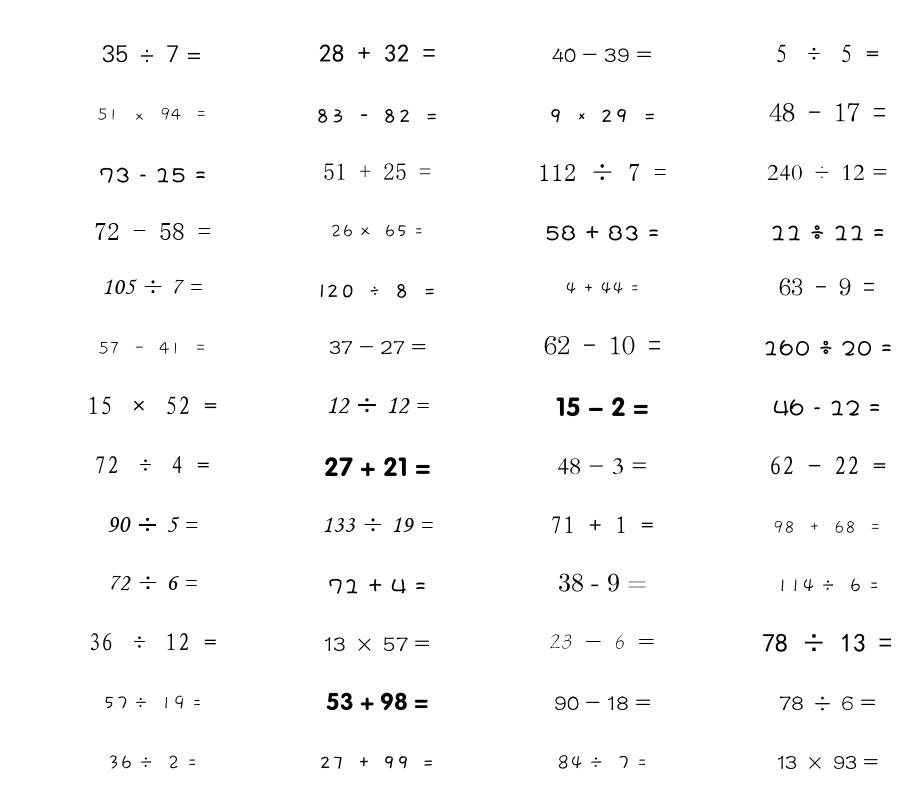MQ: (87, 396, 217, 415), (762, 633, 892, 652), (769, 102, 886, 122), (544, 335, 661, 355), (538, 163, 667, 181), (88, 633, 217, 651), (769, 456, 886, 475), (763, 339, 892, 356), (324, 457, 431, 477), (319, 44, 436, 62), (94, 456, 210, 474), (767, 164, 888, 181), (94, 223, 211, 240), (775, 44, 879, 63), (326, 692, 428, 711), (550, 516, 654, 534), (315, 108, 439, 123), (556, 397, 649, 417), (770, 225, 885, 241), (323, 163, 431, 180), (773, 399, 881, 416), (545, 225, 659, 241), (102, 45, 202, 63), (318, 283, 437, 298), (322, 517, 433, 533), (326, 397, 429, 414), (779, 278, 875, 296), (99, 167, 206, 183), (558, 573, 647, 592), (102, 279, 202, 295), (549, 634, 655, 649), (328, 578, 426, 594), (97, 107, 208, 121), (557, 458, 648, 475), (776, 578, 879, 593), (548, 109, 657, 123), (98, 341, 207, 355), (773, 520, 882, 534), (319, 756, 435, 769), (552, 48, 652, 63), (103, 695, 202, 710), (324, 637, 430, 651), (107, 516, 198, 532), (779, 696, 876, 711), (108, 575, 197, 591), (777, 755, 878, 769), (329, 340, 426, 354), (554, 696, 651, 710), (107, 755, 197, 770), (557, 755, 647, 770), (330, 224, 424, 238), (565, 282, 640, 295)
